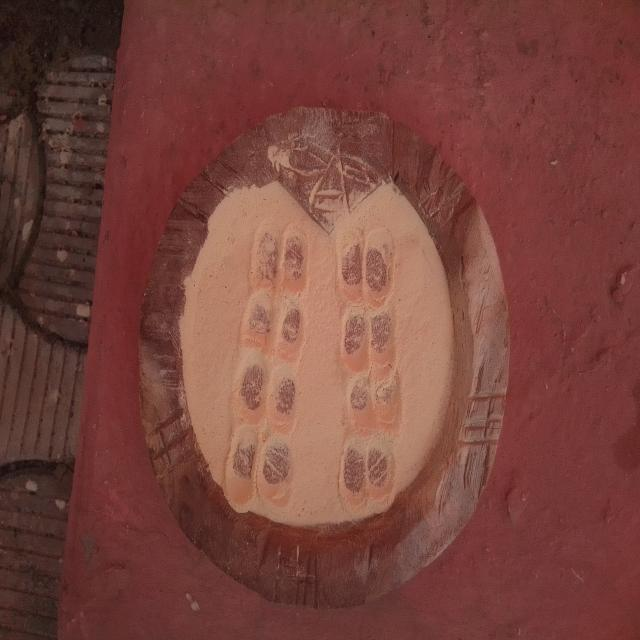double: (220, 426, 298, 514), (332, 223, 398, 302), (236, 295, 310, 365), (230, 361, 304, 428), (331, 303, 403, 369), (336, 434, 398, 510), (341, 366, 408, 434), (248, 222, 310, 293)
